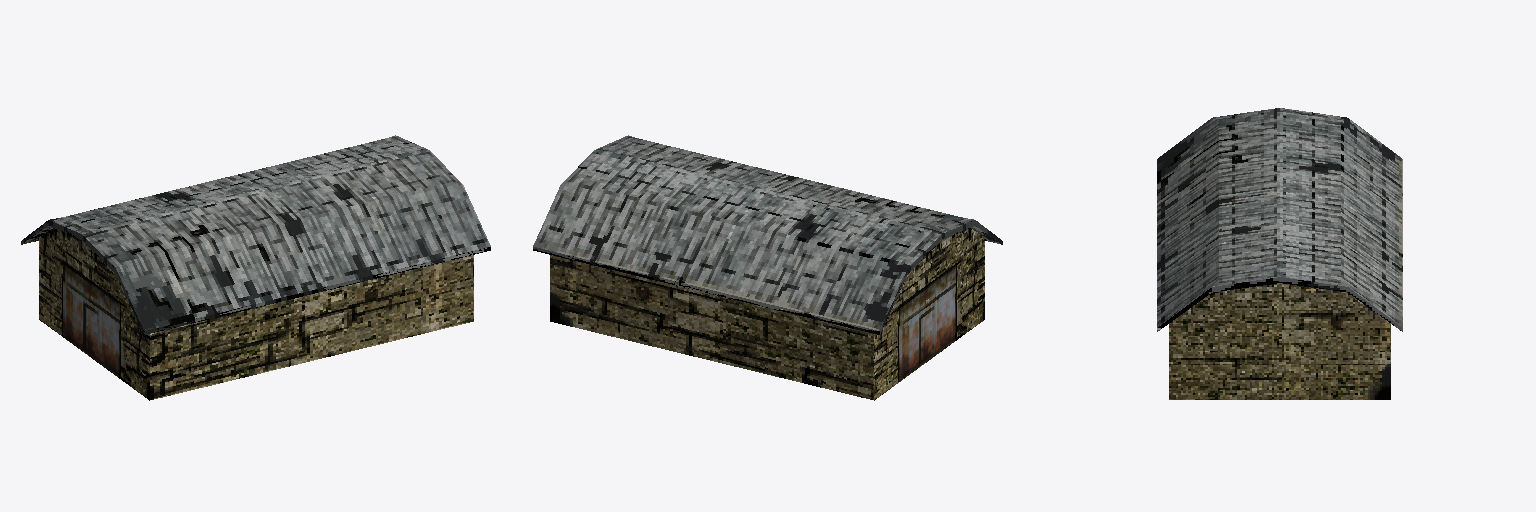
3 renders of one model, left to right at view 1: azimuth 30°, elevation 25°; view 2: azimuth 150°, elevation 25°; view 3: azimuth 270°, elevation 25°, orthographic.
Visible parts, largest first — view 1: default1; view 2: default1; view 3: default1.
Boxes of the visible parts, x1,y1,x2,y2 form: default1: [21, 135, 490, 400]; default1: [533, 135, 1002, 400]; default1: [1157, 108, 1402, 399].
Size of the model in its own units: 21.66 by 7.7 by 13.32.
1 materials, 1 textured.